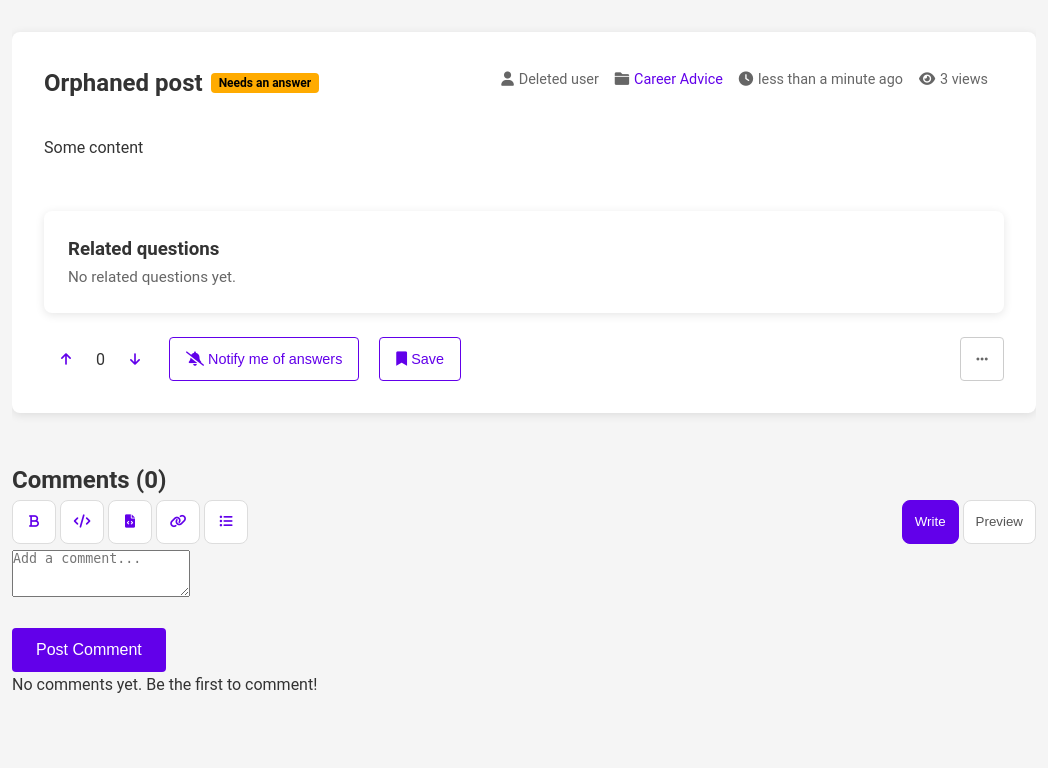
Test: PostDetail save toggle › shows "Save" when not saved, and saves on click
Click the button "Save" at (420, 359), box x1=379 y1=337 x2=461 y2=381
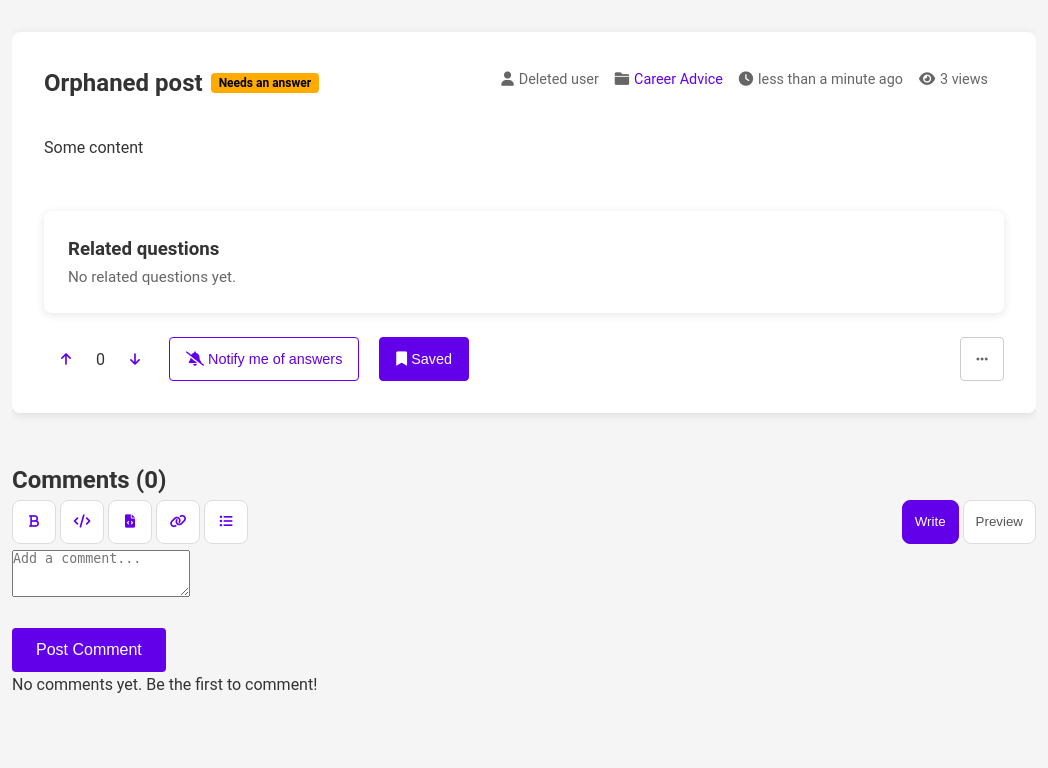
Check: the button "Saved" is shown, box x1=379 y1=337 x2=469 y2=381
